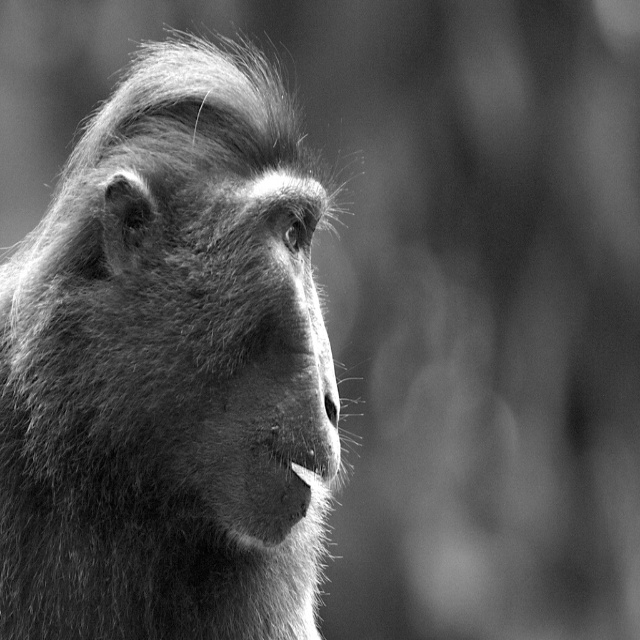Monkey: (2, 27, 377, 640)
